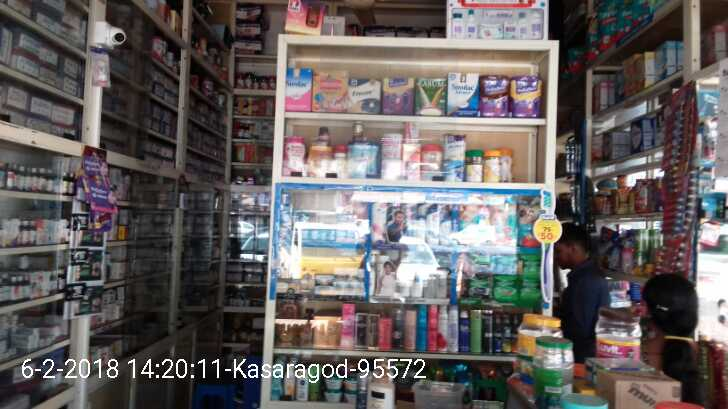oralcare: (347, 124, 377, 176)
